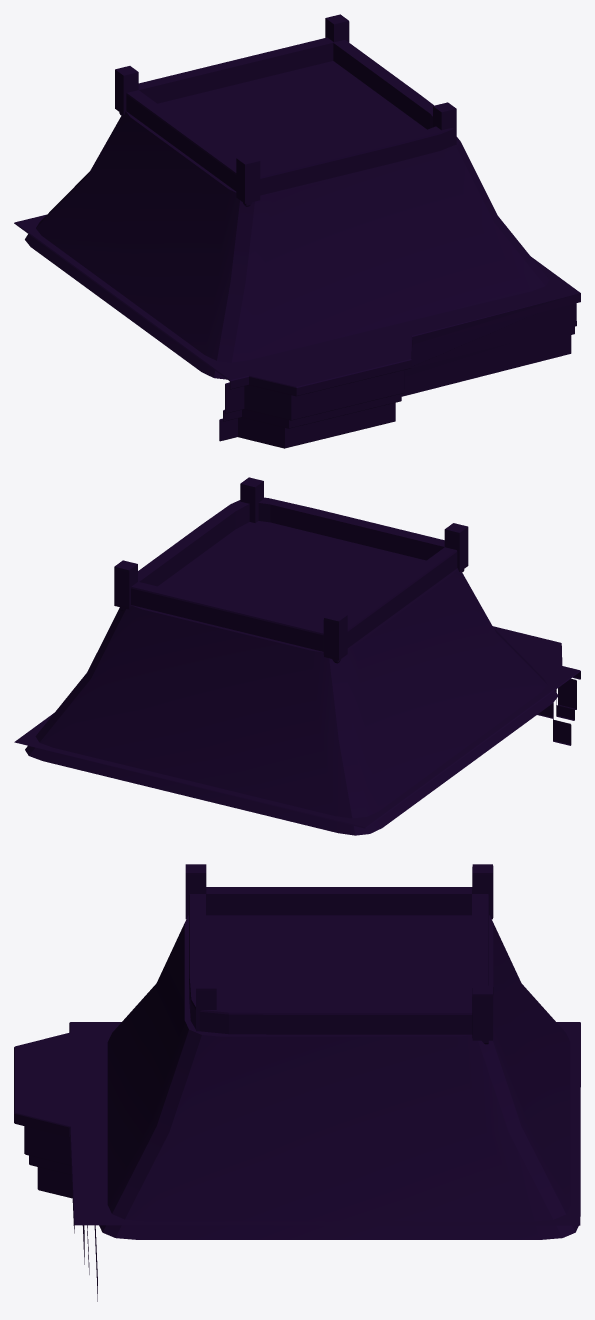
The model's file is Roof_L.FBX.
The picture shows the model from 3 angles, top to bottom: view 1: azimuth 30°, elevation 25°; view 2: azimuth 150°, elevation 25°; view 3: azimuth 270°, elevation 25°; orthographic projection. The views are drawn at different scales.
Parts seen in each view (by area): view 1: Box004, Top_L001, Object009, Object006, Object007, Object008, Object010; view 2: Box004, Object009, Top_L001, Object007, Object010, Object006, Object008; view 3: Box004, Top_L001, Object009, Object010, Object007, Object006, Object008.
Boxes of the visible parts, <box> form: Box004: <box>25,61,549,379</box>; Top_L001: <box>14,214,580,448</box>; Object009: <box>119,37,453,206</box>; Object006: <box>236,154,260,203</box>; Object007: <box>115,66,138,114</box>; Object008: <box>433,102,456,145</box>; Object010: <box>325,14,349,42</box>; Box004: <box>25,521,558,835</box>; Object009: <box>120,497,464,663</box>; Top_L001: <box>14,626,580,828</box>; Object007: <box>323,611,347,660</box>; Object010: <box>114,560,137,609</box>; Object006: <box>444,523,468,571</box>; Object008: <box>240,477,263,522</box>; Box004: <box>99,915,578,1239</box>; Top_L001: <box>14,1022,580,1301</box>; Object009: <box>189,887,488,1044</box>; Object010: <box>472,985,493,1040</box>; Object007: <box>472,864,493,919</box>; Object006: <box>185,864,206,918</box>; Object008: <box>196,980,216,1031</box>.
Bounding box in the file's own units: 4610 × 2901 × 5415.
